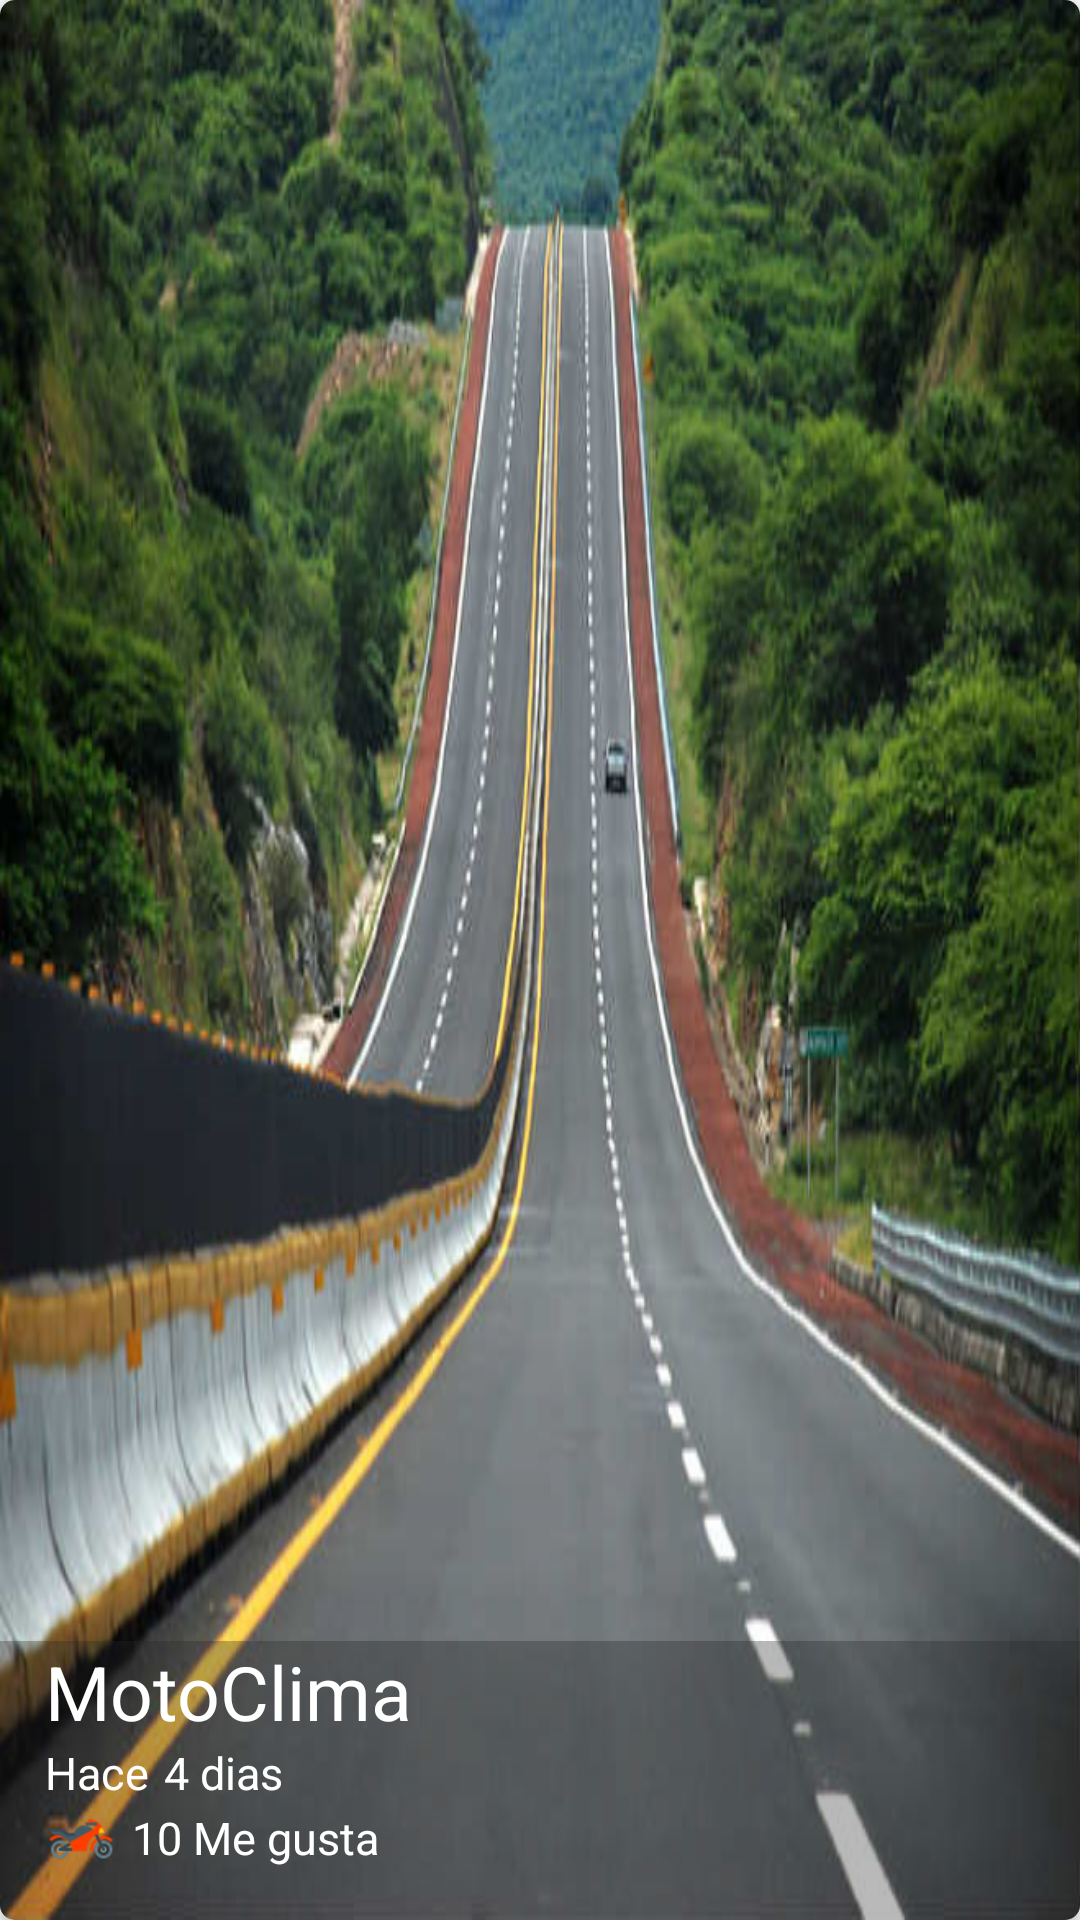

Where icons sit on this 1080w x 1920h app screen, as BBox(x1, y1, x2, y2):
moto sel: BBox(45, 1803, 117, 1875)
